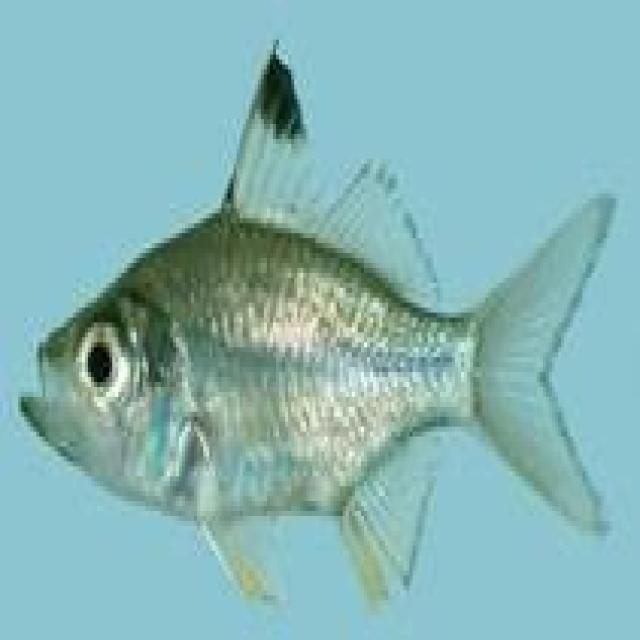Glass-Perchlet: (16, 25, 639, 628)
